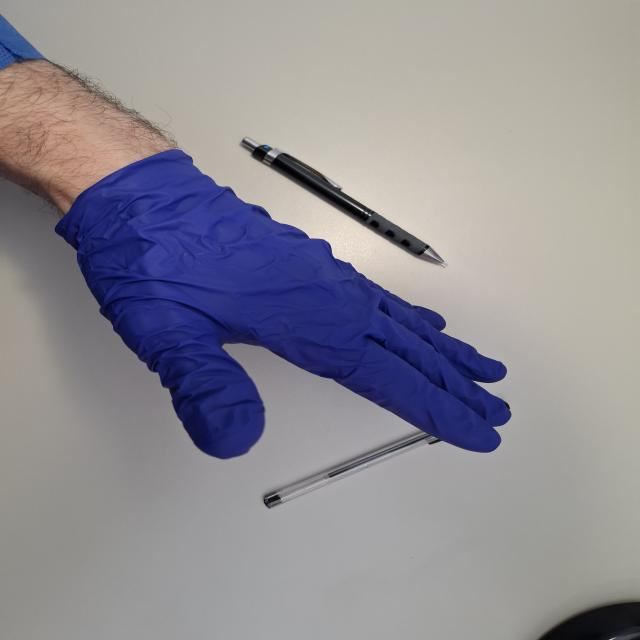glove_on: (50, 146, 518, 462)
